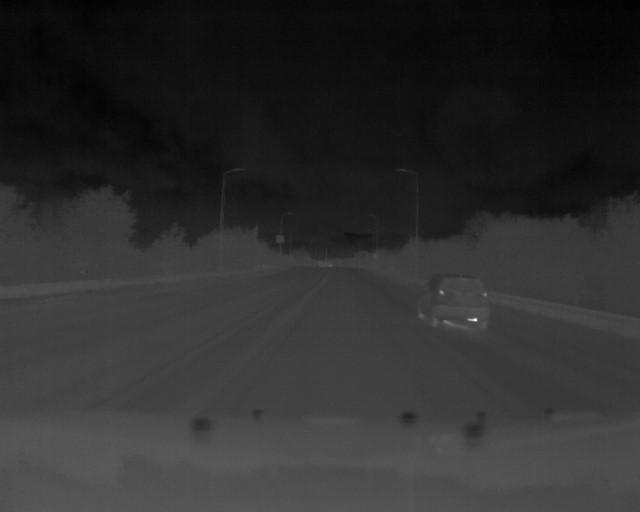car: (417, 273, 493, 332)
